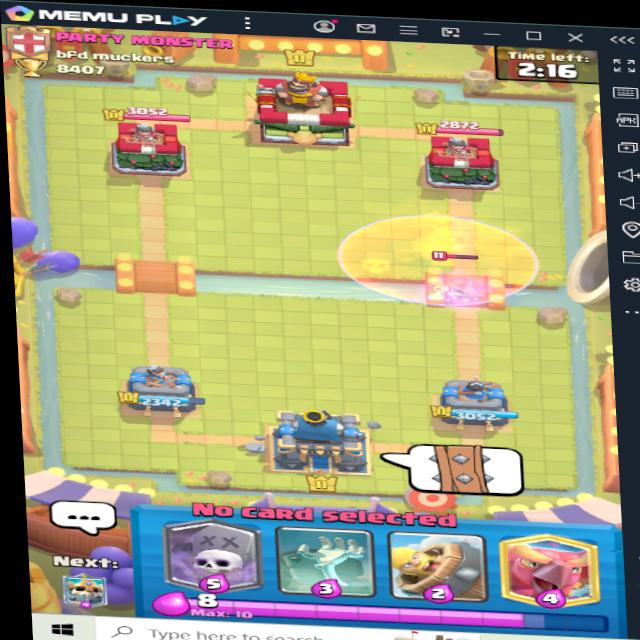Queen: (426, 250, 490, 305)
Queenability: (427, 250, 488, 308)
